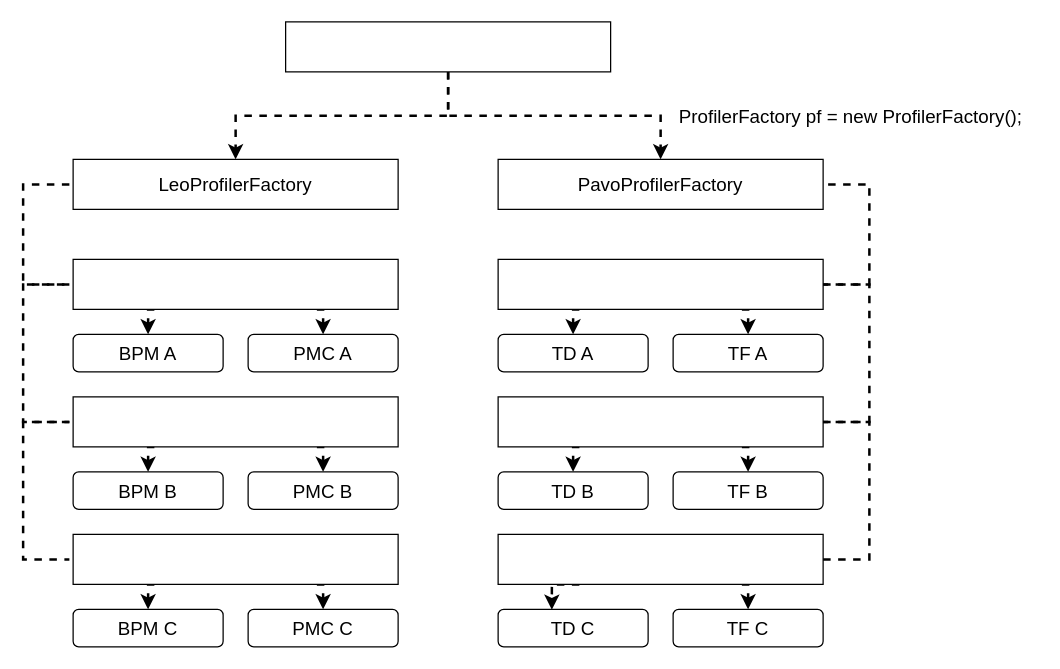
The diagram is 1060 pixels wide and 669 high, and some of its shapes have lost their labels. Each missing label, with the box of its shape:
LeoProfilerA: (72, 258, 398, 309)
LeoProfilerB: (72, 396, 398, 447)
LeoProfilerC: (72, 533, 398, 584)
PavoProfilerA: (497, 258, 823, 309)
PavoProfilerB: (497, 396, 823, 447)
PavoProfilerC: (497, 533, 823, 584)
ProfilerFactory: (284, 21, 611, 72)
